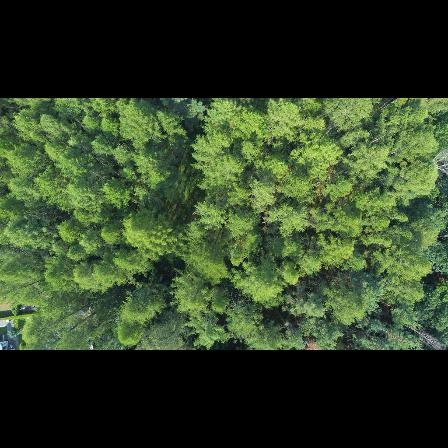Dead: (407, 320, 448, 350)
